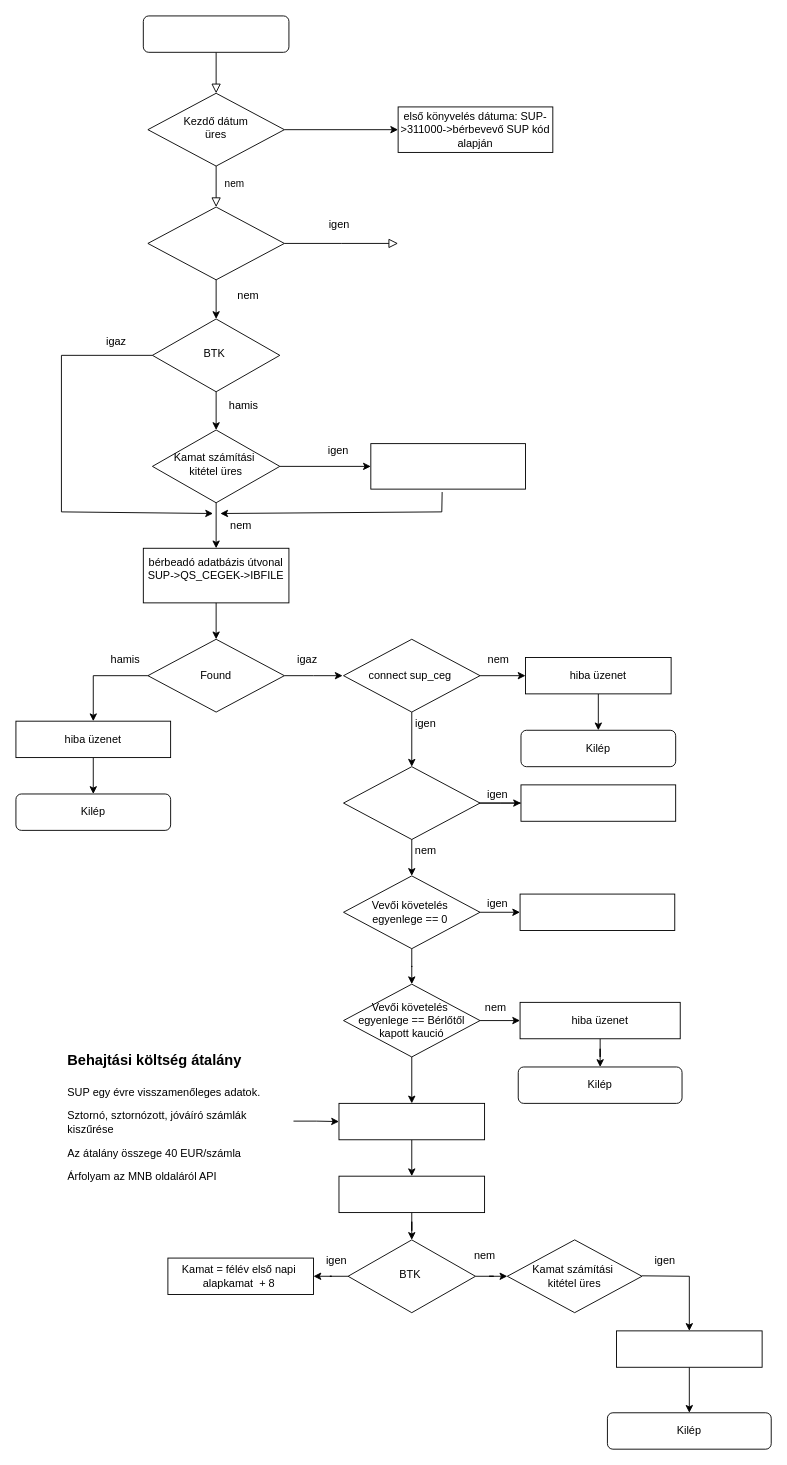
The diagram is 787 pixels wide and 1465 high, and some of its shapes have lost their labels. Here are the shapes that lost their labels. From the top down, the centre of each, then its label:
At (215,33): "Késedelmi kamat".
At (215,243): "Vég dátum üres".
At (448,466): "szerződés JIRA kód alapján keresés".
At (411,802): "Bérlőtől kapott kaució == 0".
At (598,802): "Sum(SUP->311000->bérbevevő SUP kód)".
At (597,911): "479101 ahol a rendezési szám a szerződés JIRA kód".
At (411,1121): "behajtási költség átalány számítás".
At (411,1194): "behajtási költség átalány számla".
At (689,1348): "Hibaüzenet".
